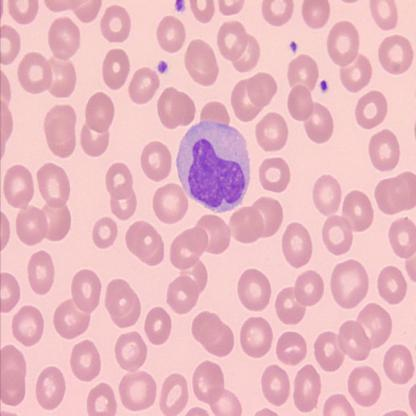Monocyte: (174, 120, 252, 215)
